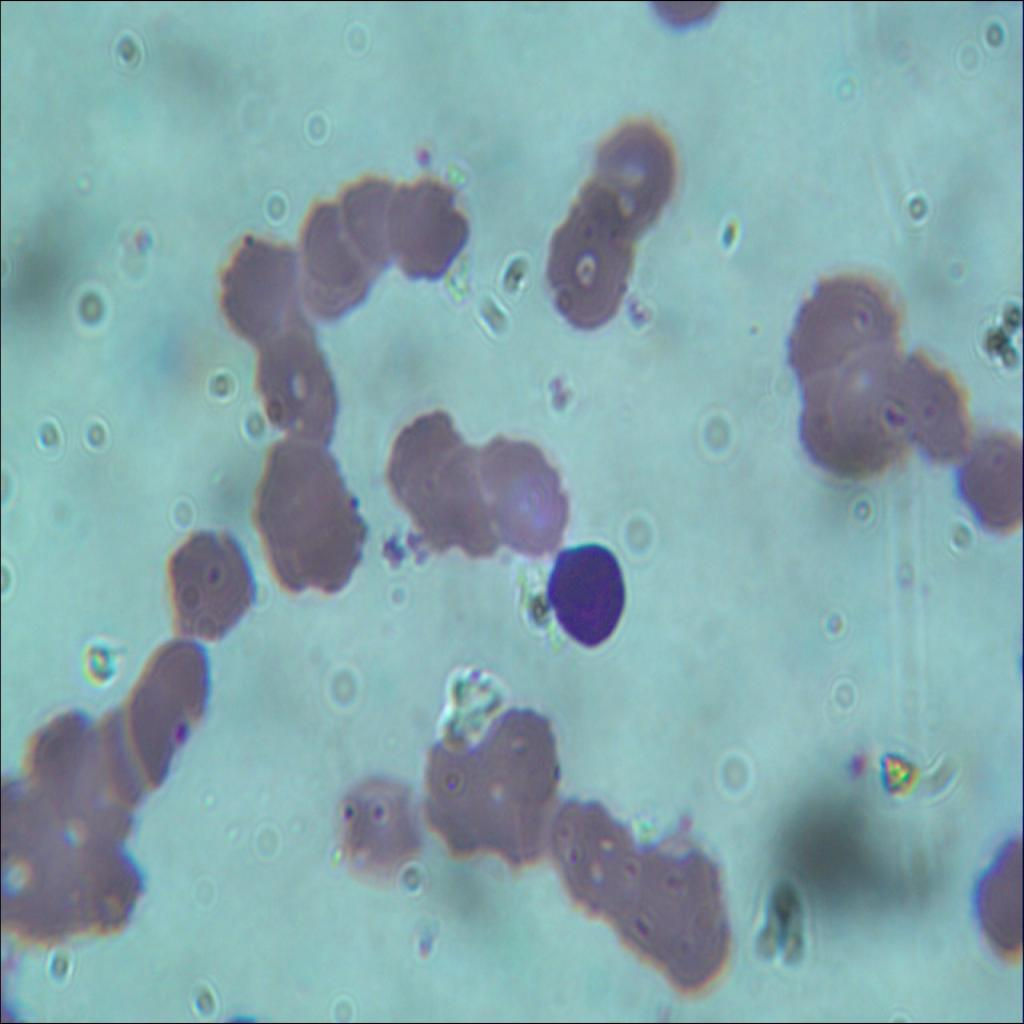Eritrosit: (628, 846, 738, 994), (0, 776, 80, 952), (549, 788, 644, 931), (784, 269, 896, 382), (130, 641, 212, 776), (824, 342, 914, 464), (430, 434, 518, 558), (216, 231, 306, 352), (390, 411, 470, 547), (546, 201, 634, 324), (584, 117, 669, 242), (483, 442, 571, 559), (415, 728, 500, 846), (800, 365, 884, 484), (888, 351, 973, 468), (50, 819, 142, 926), (166, 526, 251, 639), (278, 485, 366, 594), (254, 338, 338, 452), (336, 772, 418, 884), (291, 205, 369, 322), (384, 177, 468, 285), (332, 171, 418, 272), (18, 708, 100, 812), (484, 705, 566, 809), (253, 444, 335, 548), (953, 425, 1023, 544), (463, 764, 543, 865), (66, 749, 136, 849), (98, 705, 164, 804)
Limfoblast: (544, 538, 628, 652)
Platelet: (624, 292, 670, 332), (376, 528, 409, 578), (406, 131, 438, 177), (543, 376, 575, 418), (842, 744, 873, 781), (414, 931, 442, 969), (366, 798, 394, 834), (170, 716, 193, 755), (338, 484, 362, 521), (336, 796, 358, 832)
